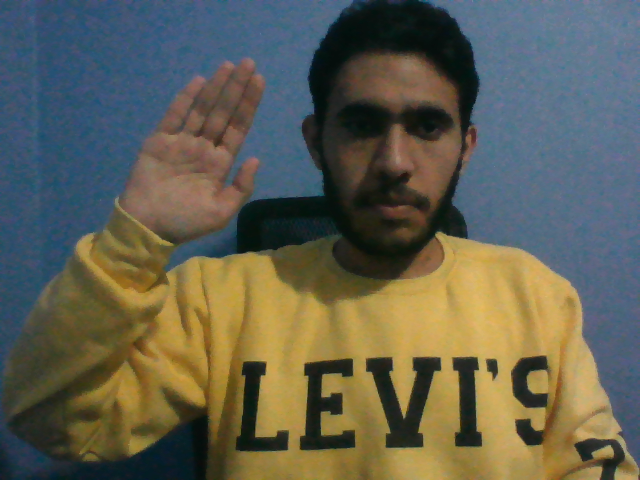hello: (111, 56, 271, 244)
